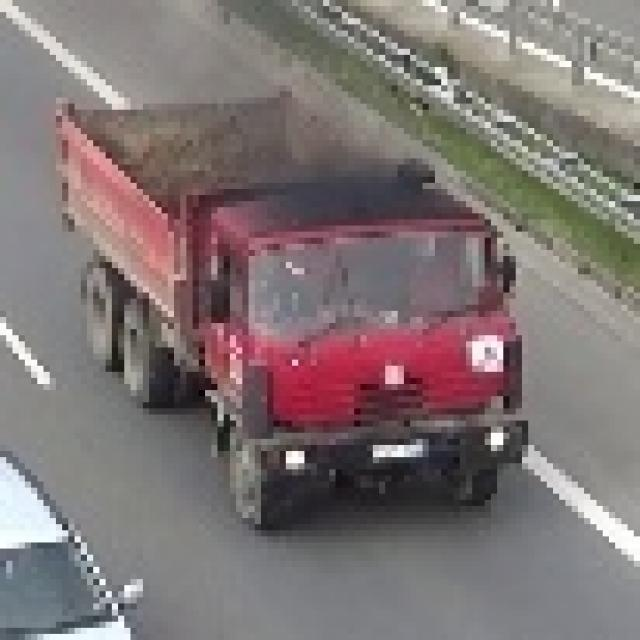truck: (43, 80, 516, 536)
